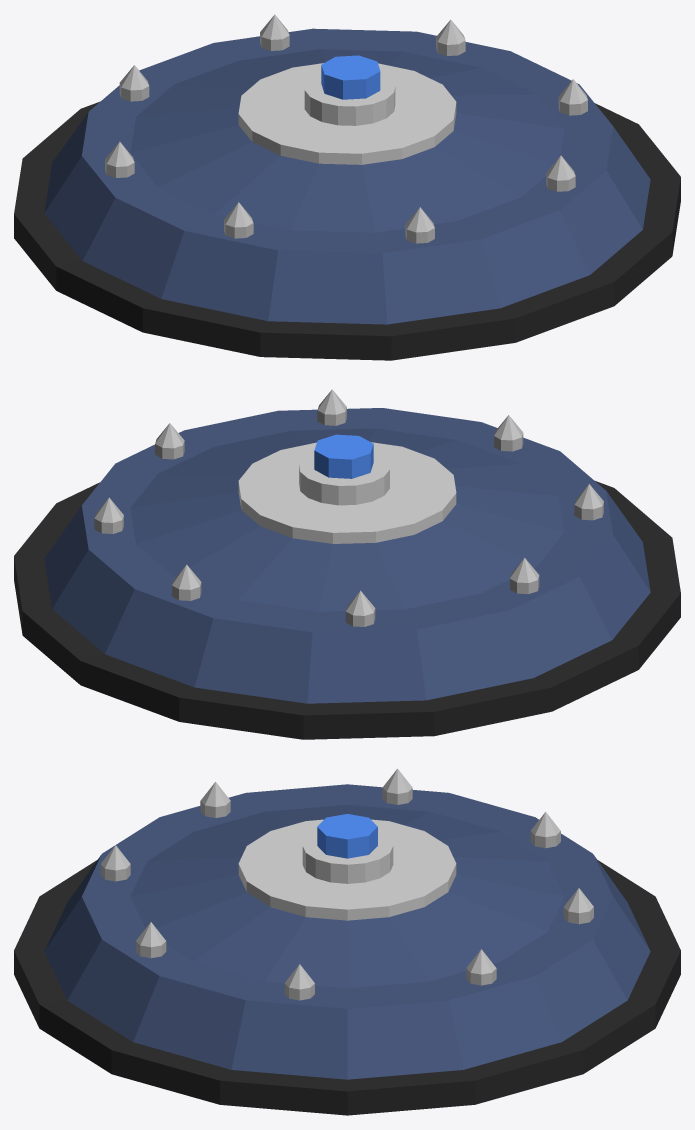
The model's file is Shield_5_d_bl.fbx.
The picture shows the model from 3 angles, top to bottom: view 1: azimuth 30°, elevation 25°; view 2: azimuth 150°, elevation 25°; view 3: azimuth 270°, elevation 25°; orthographic projection.
Parts seen in each view (by area): view 1: Circle.415, Circle.416, Circle.417, Circle.418, Circle.419, Circle.421, Circle.425, Circle.427, Circle.424, Circle.426, Circle.422, Circle.420 (+1 smaller); view 2: Circle.415, Circle.416, Circle.417, Circle.418, Circle.419, Circle.421, Circle.426, Circle.425, Circle.427, Circle.423, Circle.422, Circle.420 (+1 smaller); view 3: Circle.415, Circle.416, Circle.417, Circle.418, Circle.419, Circle.423, Circle.421, Circle.426, Circle.425, Circle.422, Circle.420, Circle.424 (+1 smaller).
Part boxes in pixels (<box>): Circle.415: <box>44,28,650,324</box>; Circle.416: <box>14,101,680,360</box>; Circle.417: <box>238,63,456,164</box>; Circle.418: <box>304,73,395,125</box>; Circle.419: <box>321,55,380,99</box>; Circle.421: <box>119,65,149,101</box>; Circle.425: <box>546,155,575,191</box>; Circle.427: <box>224,202,253,238</box>; Circle.424: <box>558,79,587,115</box>; Circle.426: <box>405,207,434,243</box>; Circle.422: <box>260,14,289,50</box>; Circle.420: <box>105,141,134,177</box>; Circle.415: <box>44,408,650,703</box>; Circle.416: <box>14,481,680,739</box>; Circle.417: <box>238,442,456,543</box>; Circle.418: <box>299,452,389,505</box>; Circle.419: <box>314,434,373,478</box>; Circle.421: <box>345,590,375,626</box>; Circle.426: <box>494,415,523,451</box>; Circle.425: <box>317,389,346,425</box>; Circle.427: <box>574,484,603,520</box>; Circle.423: <box>94,497,123,533</box>; Circle.422: <box>172,564,201,600</box>; Circle.420: <box>510,557,539,594</box>; Circle.415: <box>44,784,650,1079</box>; Circle.416: <box>14,860,680,1115</box>; Circle.417: <box>238,819,456,920</box>; Circle.418: <box>302,831,393,883</box>; Circle.419: <box>317,814,377,858</box>; Circle.423: <box>466,949,496,985</box>; Circle.421: <box>530,812,560,848</box>; Circle.426: <box>100,845,130,881</box>; Circle.425: <box>136,922,166,958</box>; Circle.422: <box>563,888,593,924</box>; Circle.420: <box>382,768,412,804</box>; Circle.424: <box>284,964,314,1000</box>.
Size of the model in its own units: 55 by 19.57 by 55.
